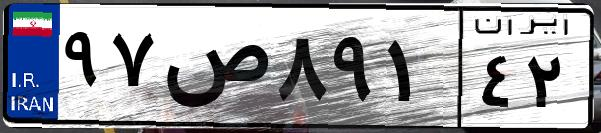1: (385, 28, 445, 110)
2: (525, 38, 570, 115)
4: (475, 38, 525, 113)
7: (110, 28, 158, 98)
8: (270, 28, 330, 110)
9: (330, 28, 385, 110), (57, 26, 110, 100)
ص: (158, 20, 270, 120)
